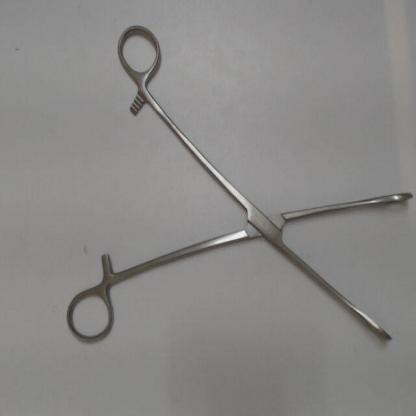Sponge Forceps: (60, 16, 414, 355)
